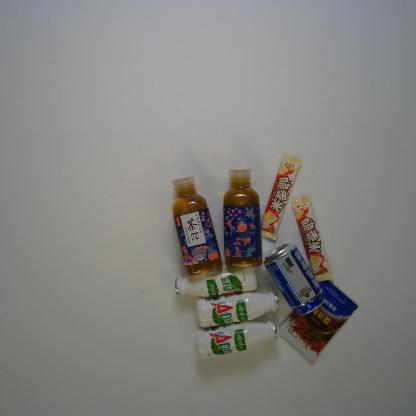Alcohol: (263, 242, 326, 317)
Chocolate: (290, 196, 335, 284), (260, 152, 303, 242)
Drink: (171, 173, 224, 276), (222, 168, 264, 268)
Milk: (195, 290, 280, 330), (195, 320, 279, 360), (174, 266, 258, 299)
Seasoner: (276, 280, 359, 362)
